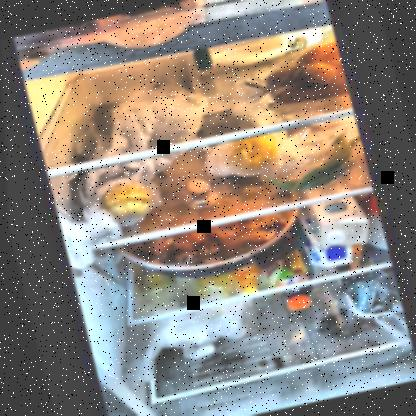broccoli: (338, 266, 400, 322)
carrot: (259, 44, 347, 107)
green_chillies: (278, 134, 362, 191)
lemon: (94, 176, 155, 223), (228, 132, 281, 173)
milk: (293, 193, 370, 267)
